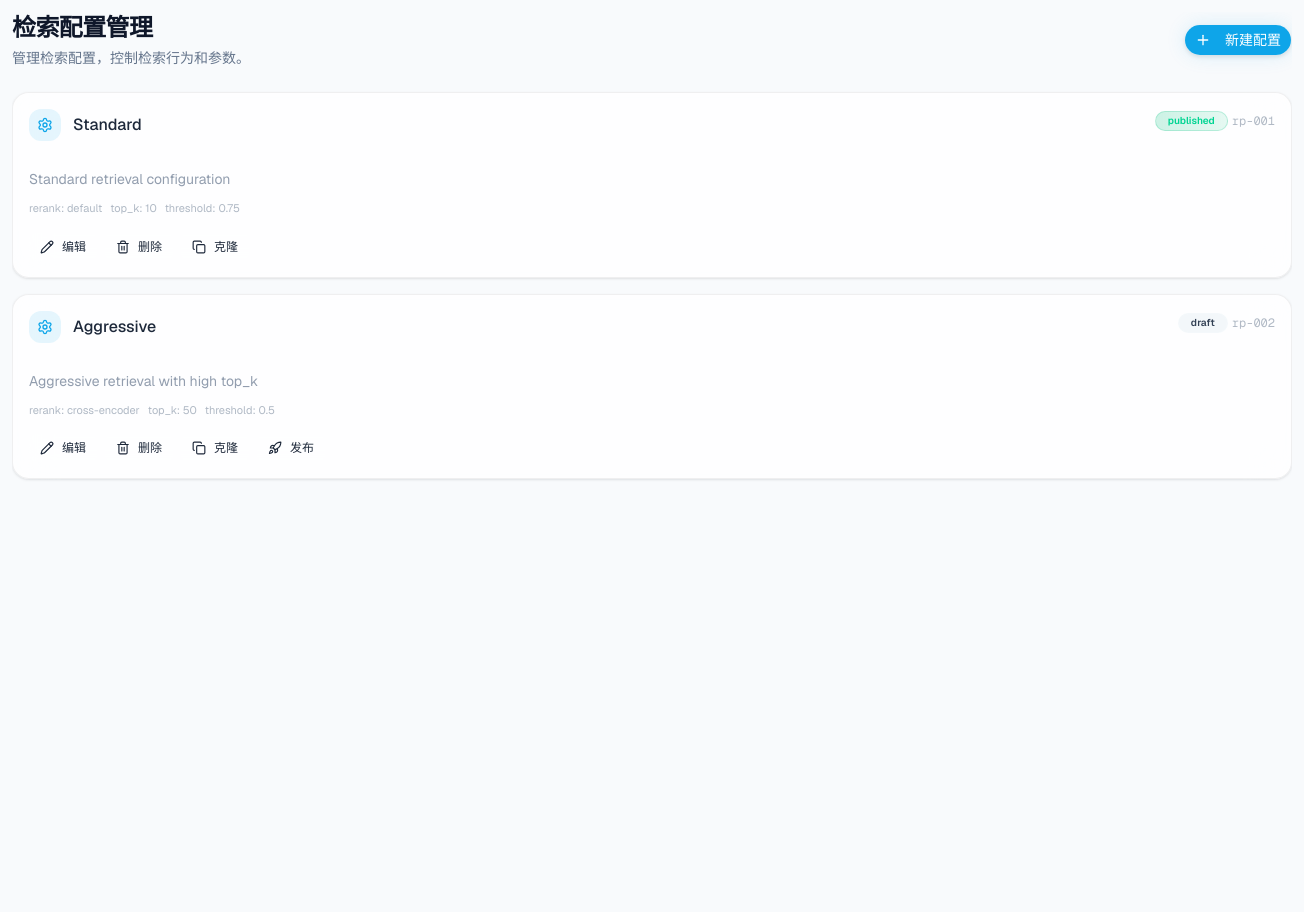
Scenario: RetrievalProfilesPage › Clone Profile › clones profile and adds copy to list
The image size is (1304, 912).
Expected: the text "Standard" is shown, x1=73 y1=113 x2=142 y2=137
Click the button "克隆" below "default" at x=215, y=247, box x1=181 y1=233 x2=249 y2=261
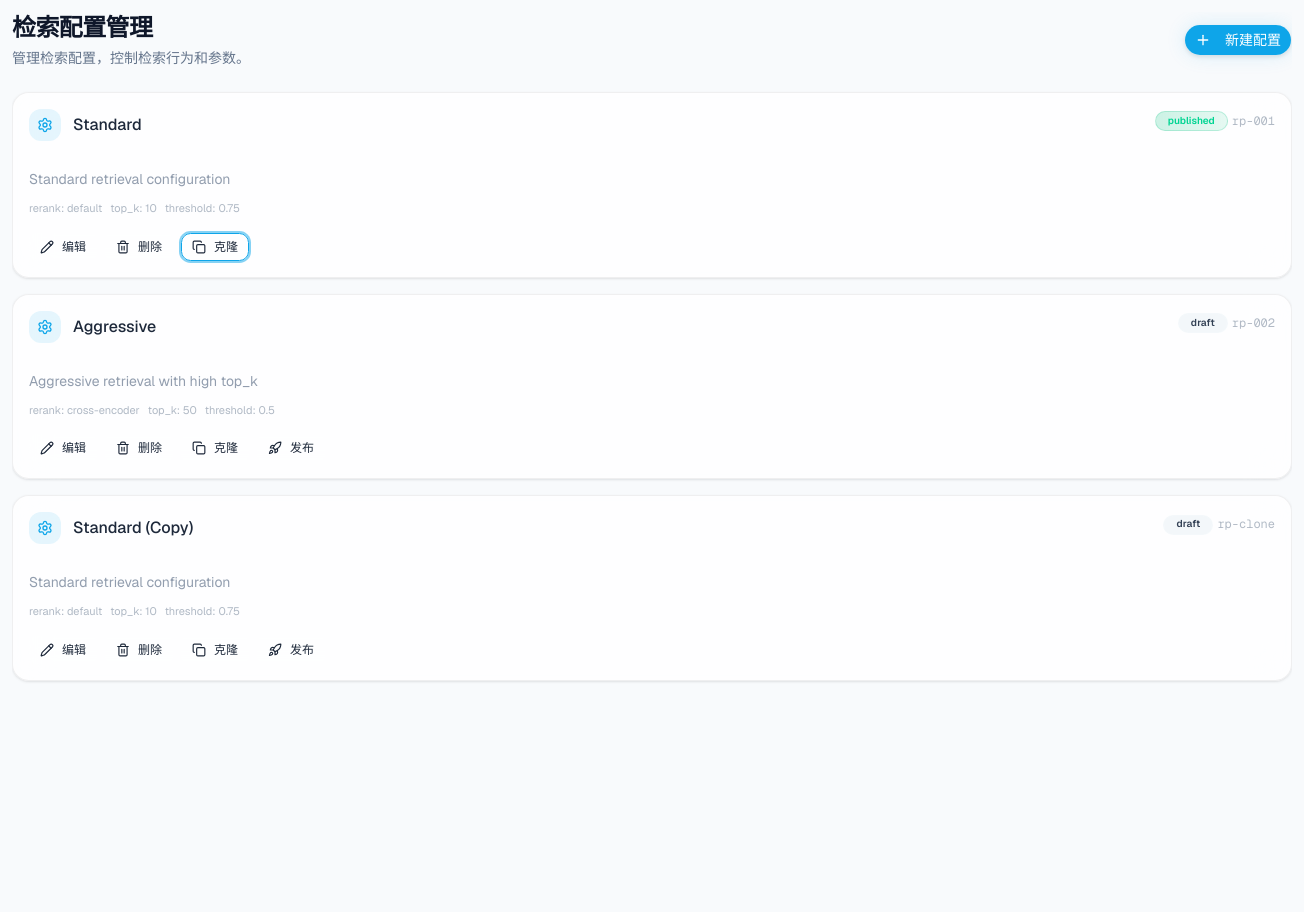
Now the text "Standard (Copy)" is shown, box x1=73 y1=516 x2=193 y2=540
